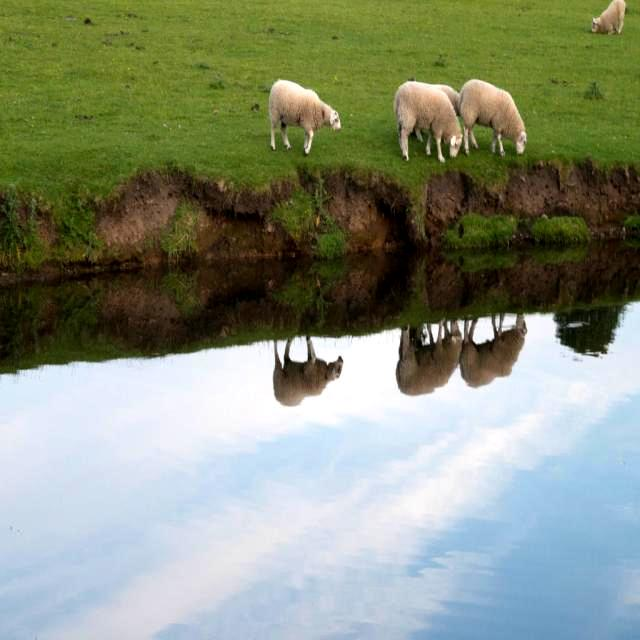sheep: (393, 82, 462, 159), (458, 80, 527, 152), (268, 78, 340, 142), (416, 83, 459, 140), (591, 0, 624, 33)
